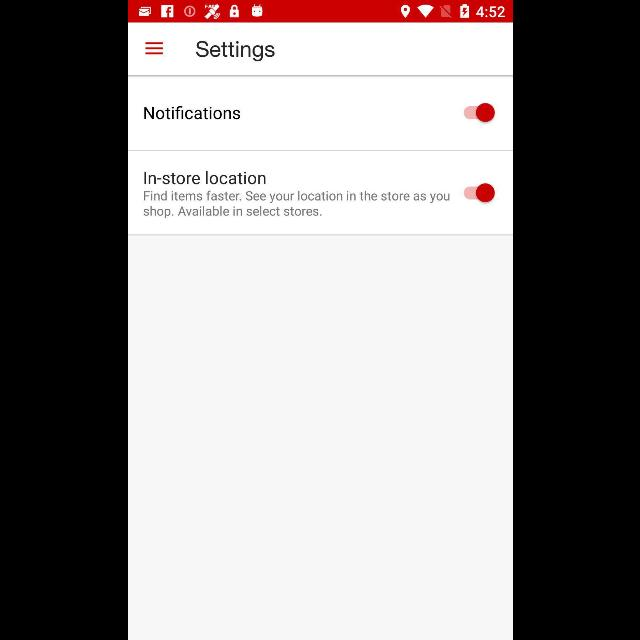icon: (144, 42, 162, 56)
switch: (463, 104, 495, 122), (464, 184, 494, 202)
text: (143, 190, 449, 218), (196, 40, 274, 61), (143, 172, 265, 184), (144, 106, 240, 120)
toolbar: (128, 24, 512, 76)
uppertaskbar: (128, 1, 512, 23)
